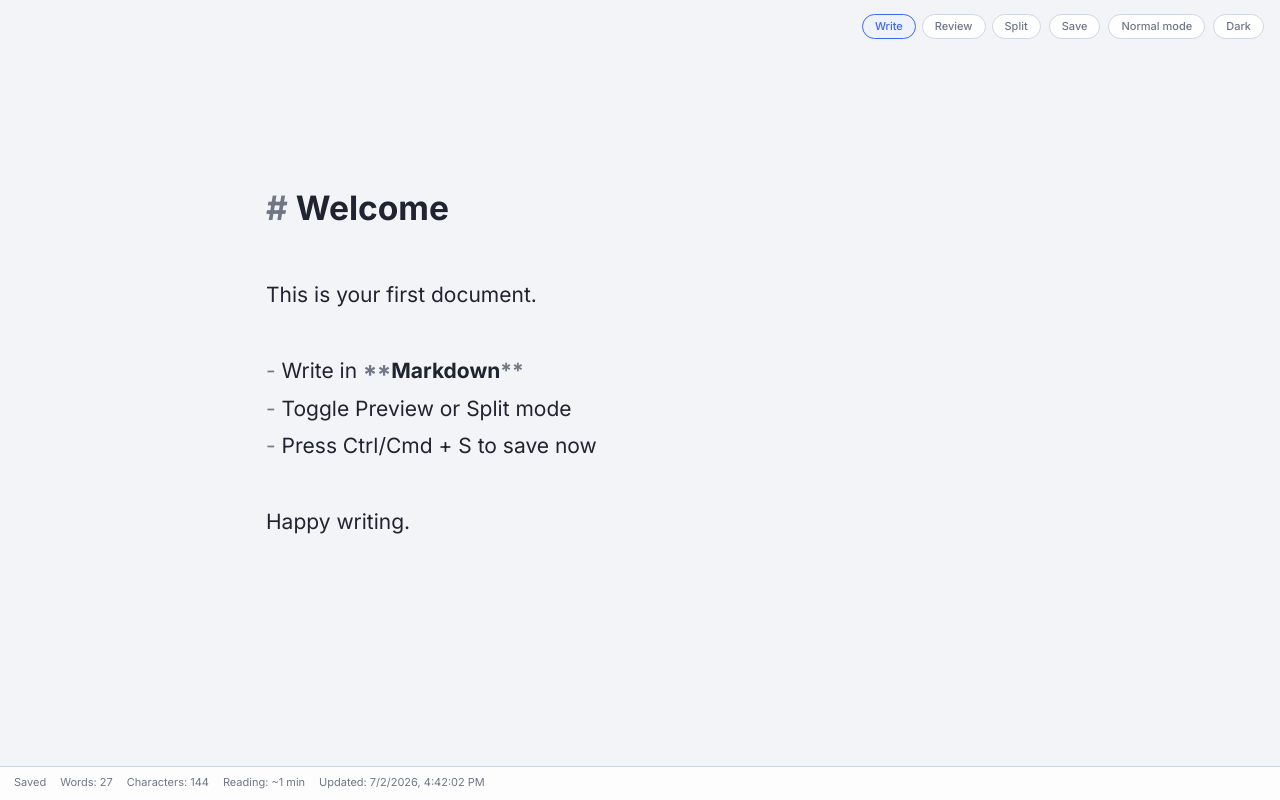
Test: App — document management › switches active document when clicked
The width and height of the screenshot is (1280, 800).
Step 1. Click the button "Normal mode" → point(1157, 26), box [1108,14,1205,39]
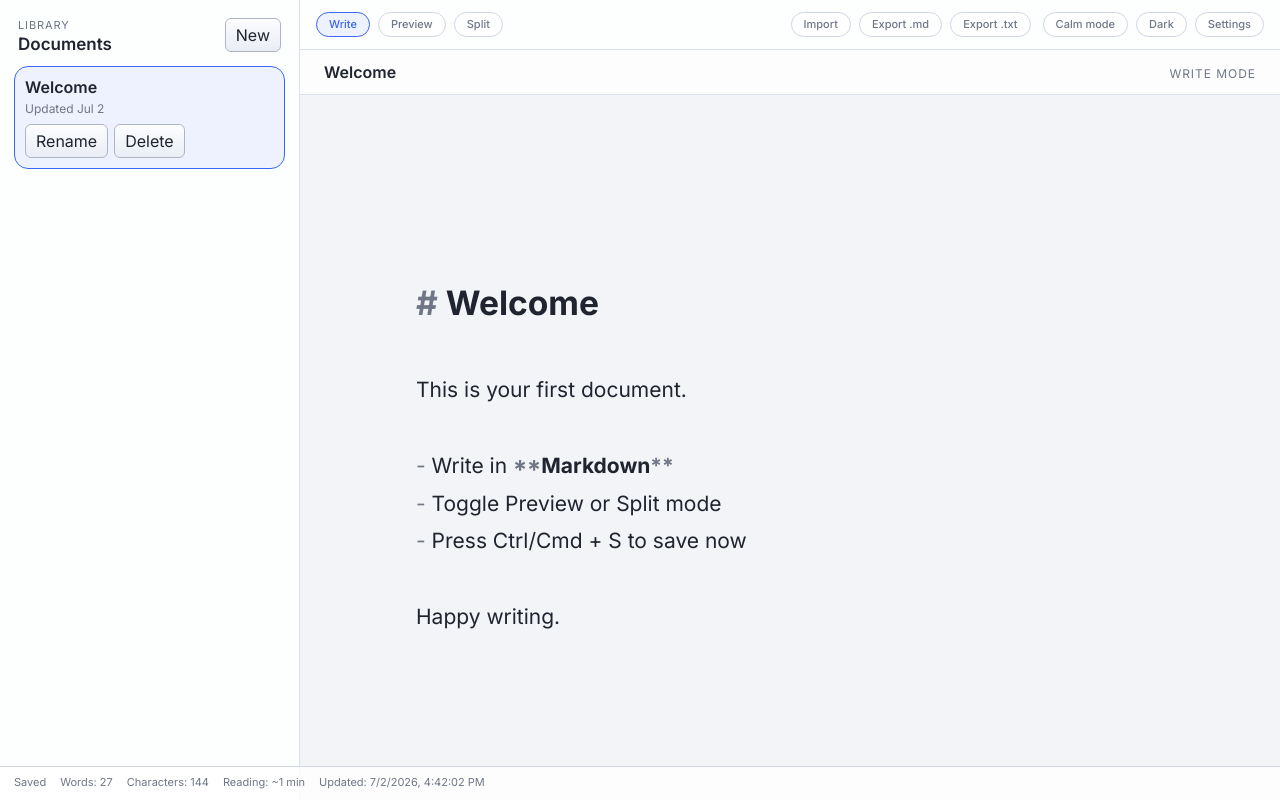
Step 2. Click the button "New" → point(253, 35), box [225,18,281,52]
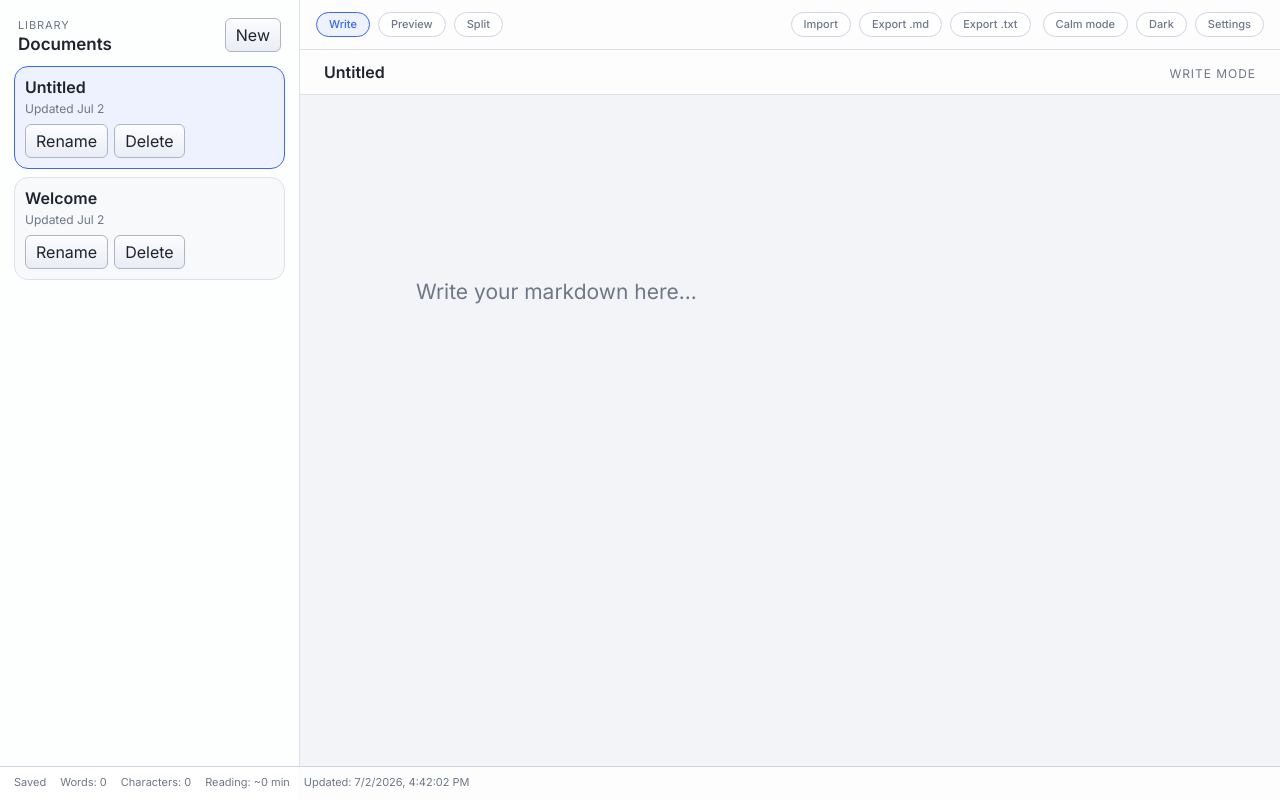
// Кликаем на Welcome в сайдбаре
Step 3. Click the button "Welcome" → point(150, 198), box [25,188,274,208]
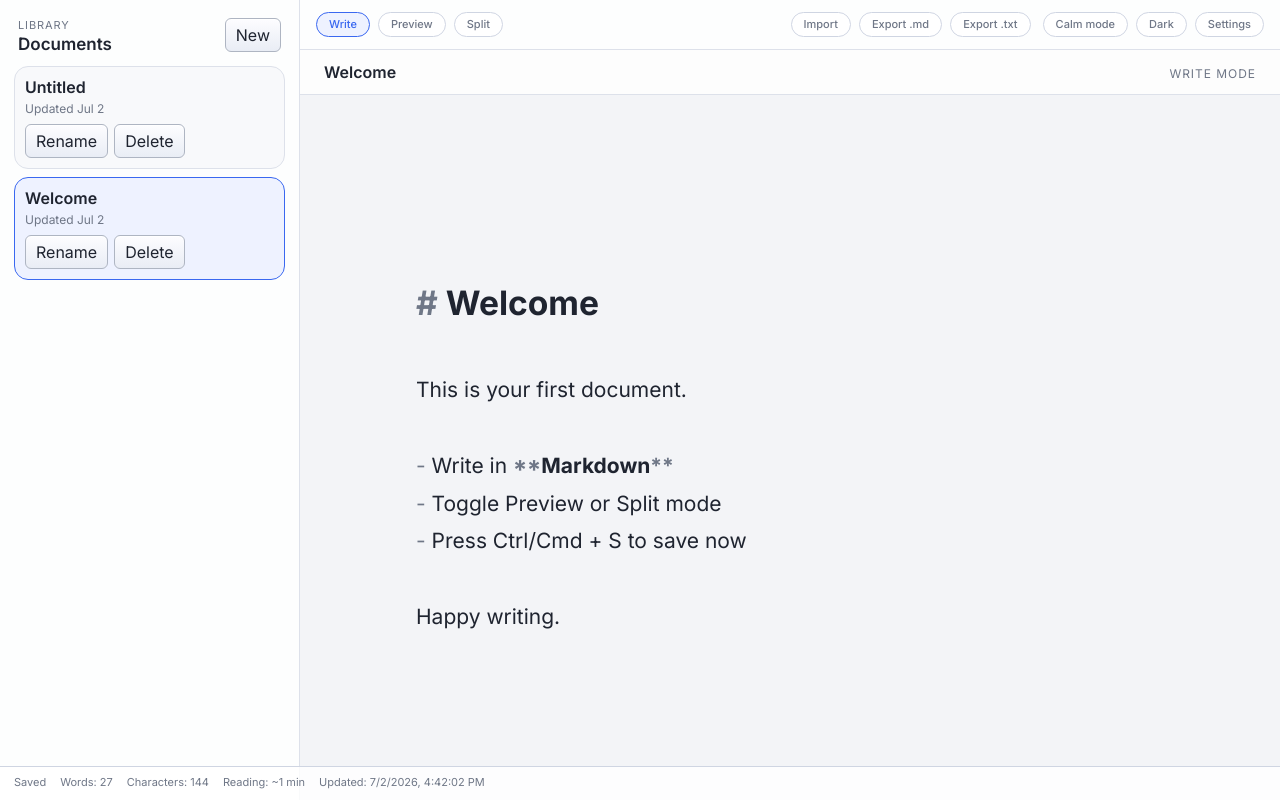
Expected: the heading "Welcome" is shown, [324,62,396,82]
